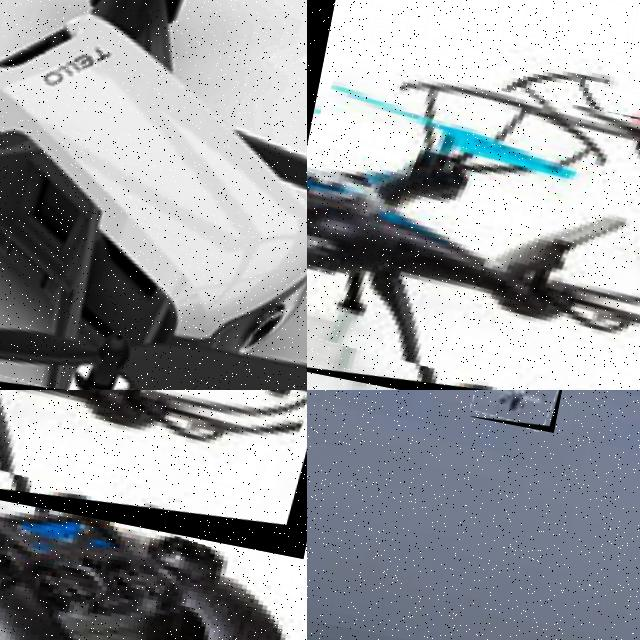0: (470, 390, 567, 433)
drone: (0, 0, 307, 390), (307, 56, 640, 390), (0, 390, 307, 559)
